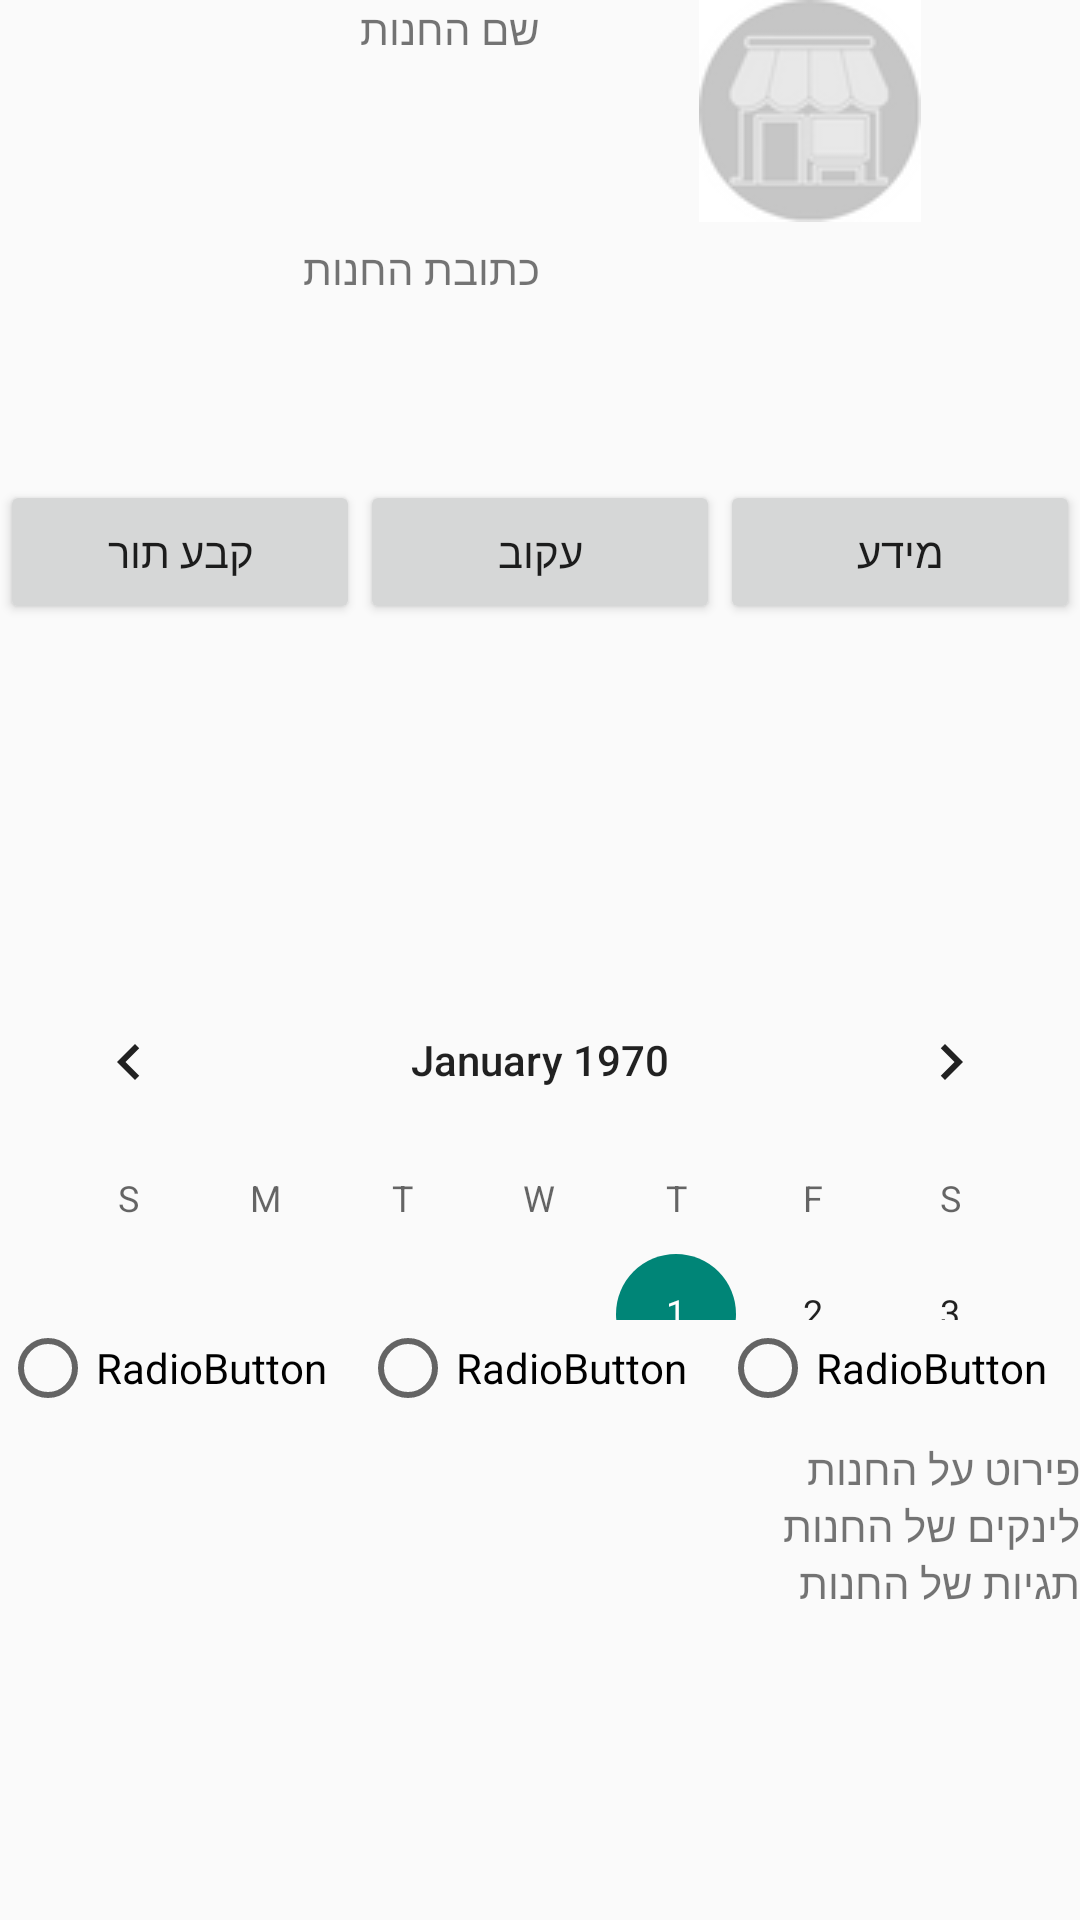

Named icons in this screenshot (1080px x 1920px) and their bounding boxes, (x1, y1, x2, y2):
shop empty: (699, 0, 921, 222)
